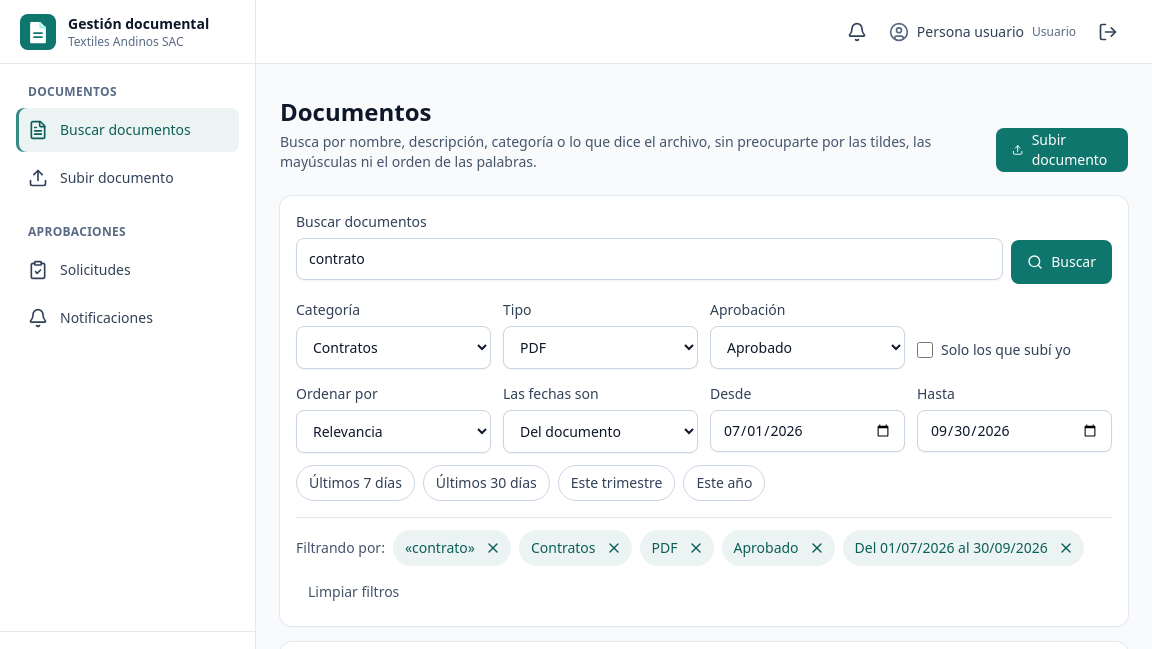
Buscador de documentos (D42) › los filtros quedan en la URL, se ven como etiquetas que se quitan una a una y se limpian de una vez
Expected: the text "«contrato»" is shown, [393,530,511,566]
Expected: the text "PDF" is shown, [640,530,714,566]
Click the button named "Quitar el filtro Aprobado": point(817, 548) [803,534,831,562]
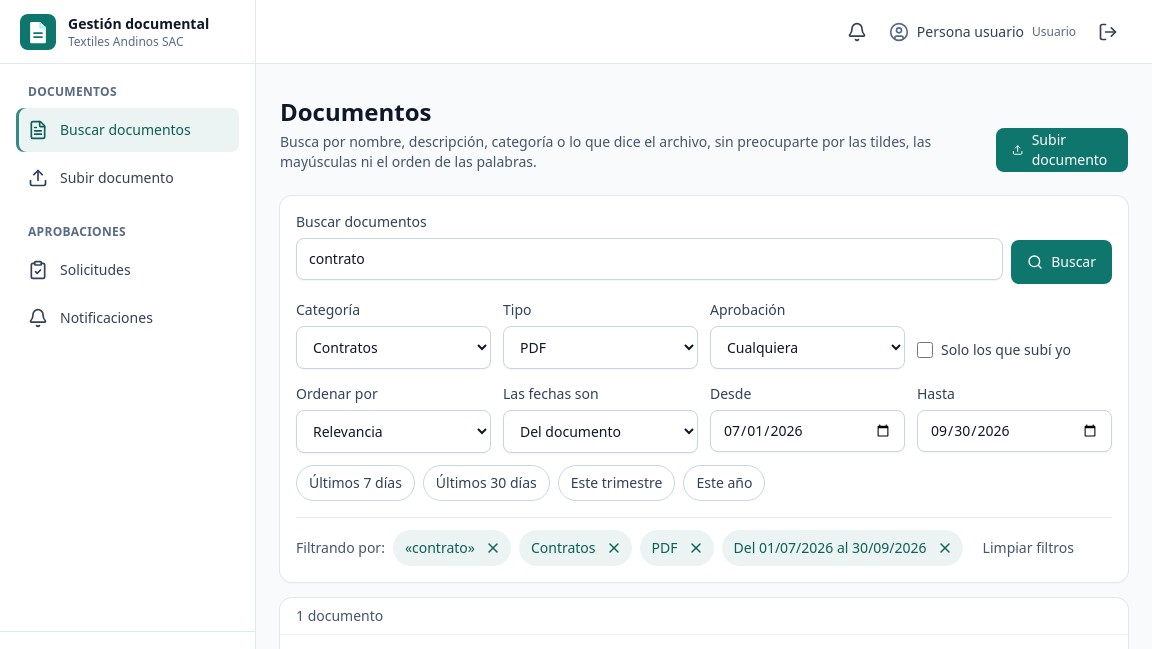
Click the button named "Quitar el filtro Del 01/07/2026 al 30/09/2026": point(945, 548) [931,534,959,562]
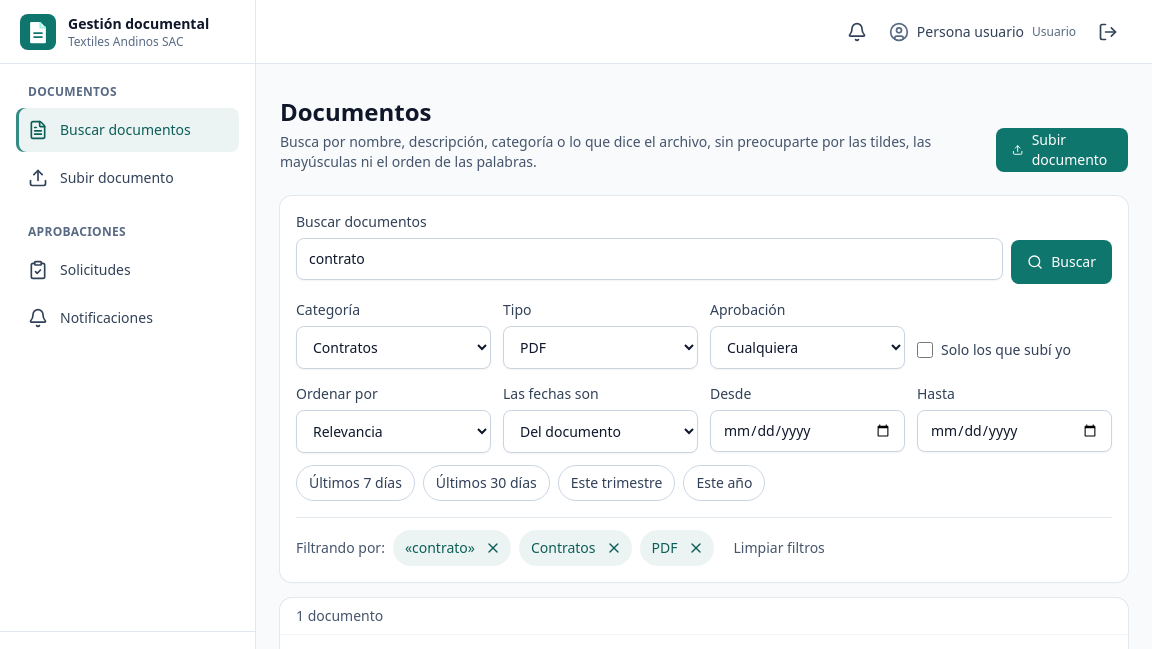
Click the button "Limpiar filtros": point(779, 548) [722,530,837,566]
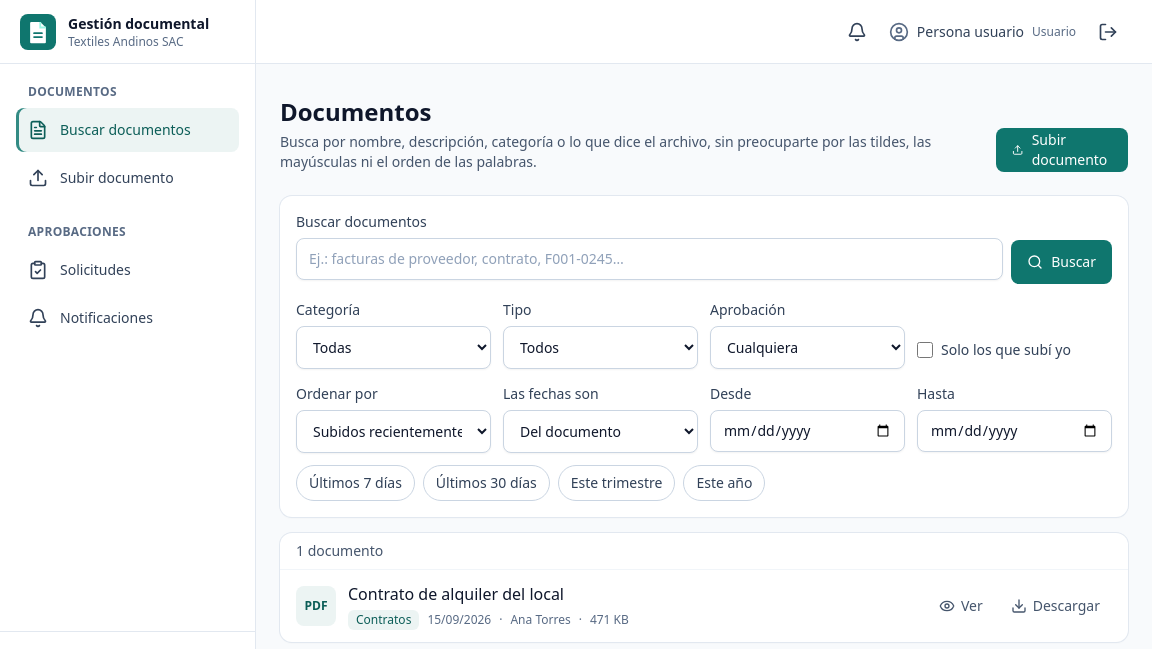
Now the dropdown labelled "Buscar documentos" is empty, box [296,238,1003,280]
